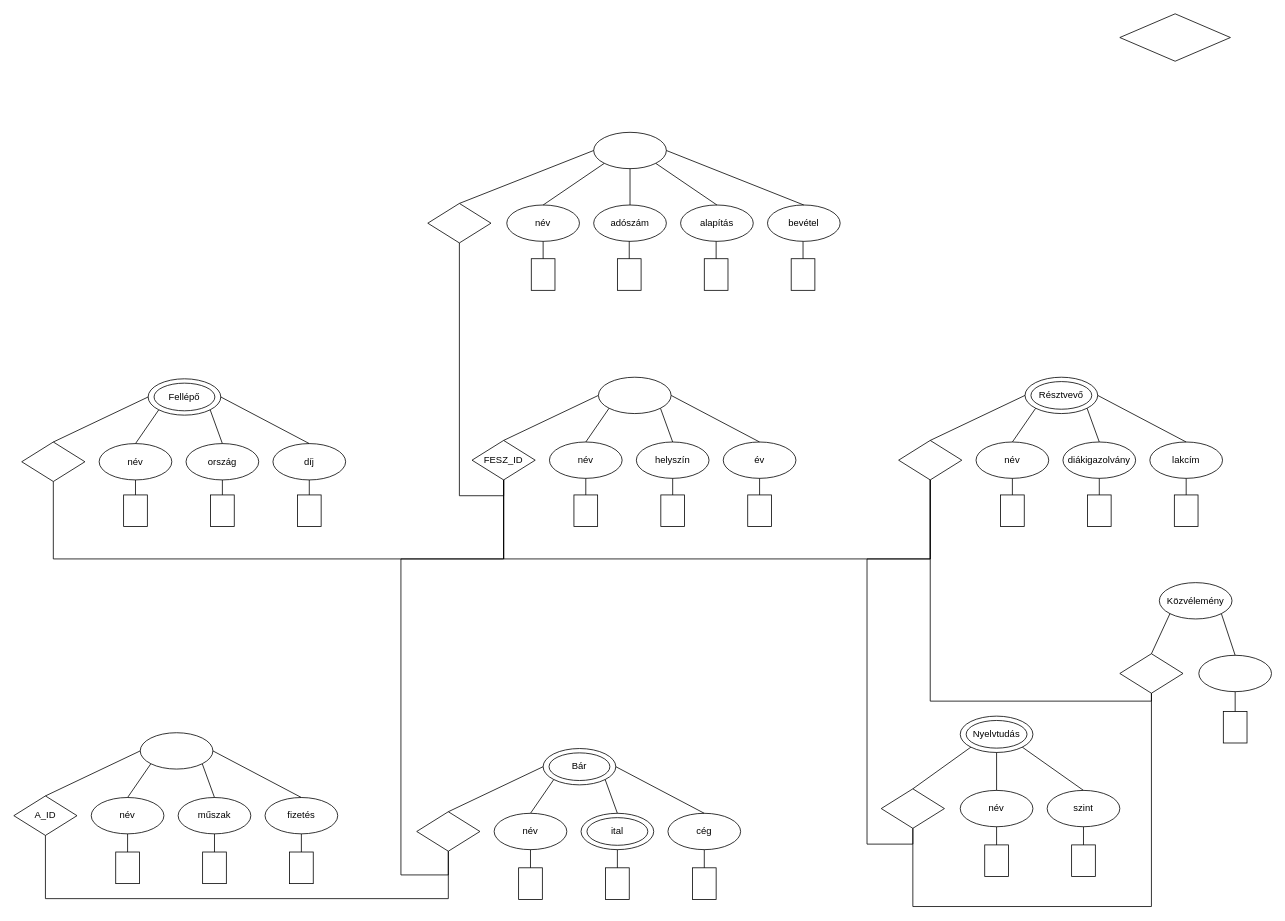
The diagram is 1285 pixels wide and 921 high, and some of its shapes have lost their labels. Here are the shapes that lost their labels. From the top down, the centre of each, then its label:
At (x=1174, y=37): "Fesztivál_C0LLER".
At (x=629, y=150): "Tulajdonos".
At (x=459, y=223): "T_ID".
At (x=634, y=395): "Fesztivál".
At (x=53, y=461): "FEL_ID".
At (x=930, y=460): "R_ID".
At (x=1151, y=673): "K_ID".
At (x=1235, y=673): "kérdező".
At (x=176, y=750): "Alkalmazott".
At (x=912, y=808): "NY_ID".
At (x=448, y=831): "B_ID".
